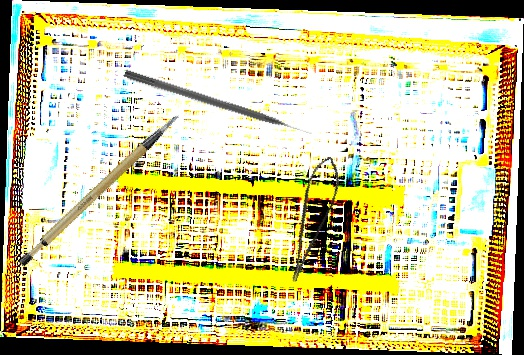Micro Scissor: (268, 151, 352, 285)
Pusher: (123, 68, 313, 141)
Scalpel Handle: (1, 112, 202, 270)
